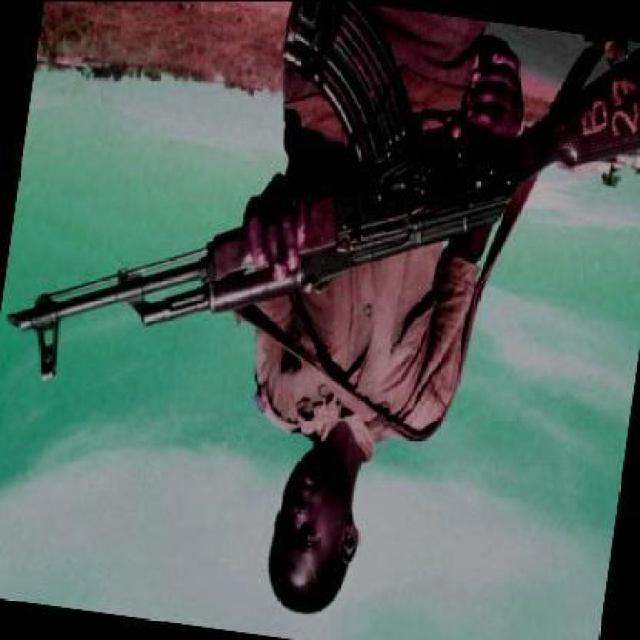Rifle: (6, 36, 639, 380)
